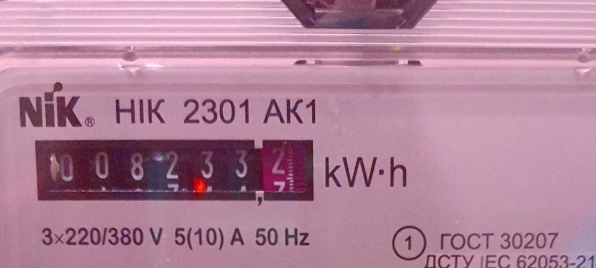0: (55, 150, 76, 183), (91, 149, 110, 180)
2: (160, 148, 181, 181), (269, 144, 286, 176)
3: (197, 148, 215, 179), (233, 147, 249, 178)
8: (127, 149, 144, 181)
screen: (24, 127, 324, 210)
